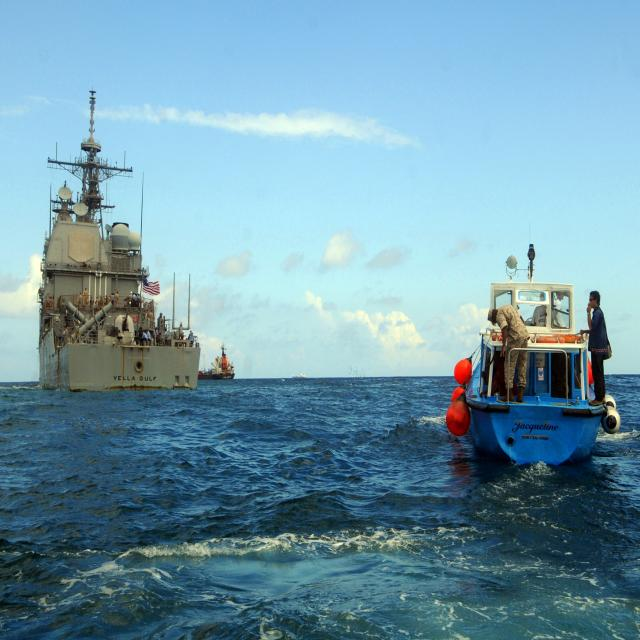fishing boat: (458, 232, 632, 476)
navalvessels: (28, 88, 189, 409)
